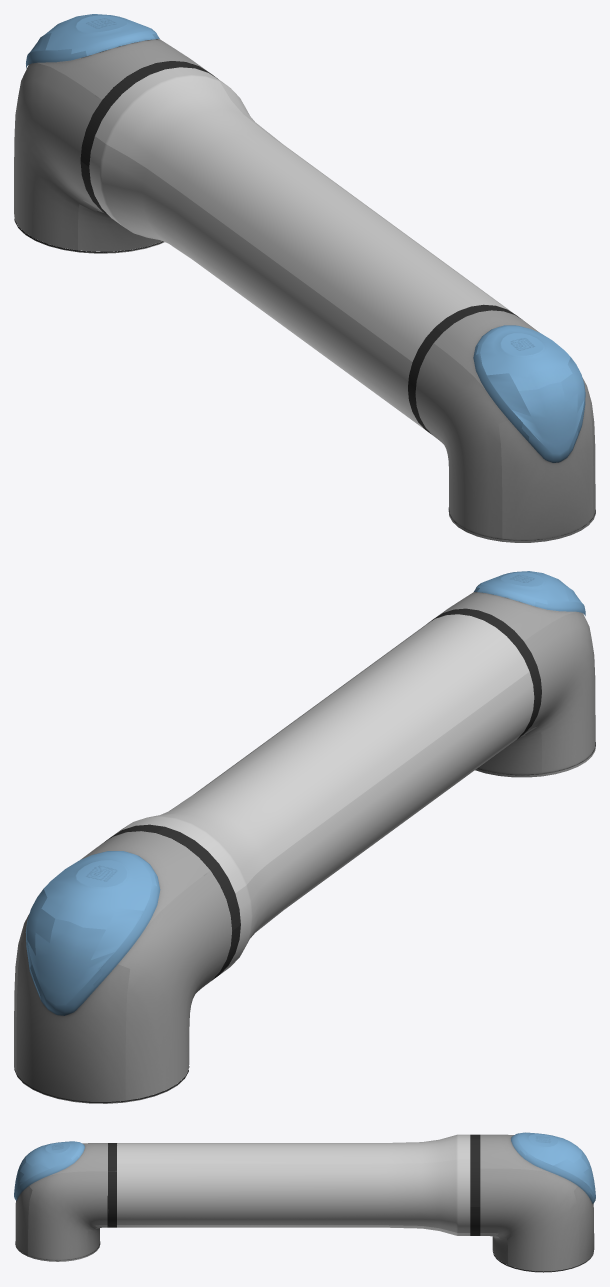
Rendered from upper_arm_link.glb.
3 views of the same model, one above another, from view 1: azimuth 30°, elevation 25°; view 2: azimuth 150°, elevation 25°; view 3: azimuth 270°, elevation 25° (orthographic). The views are drawn at different scales.
Parts seen in each view (by area): view 1: shoulder-mesh_002, shoulder-mesh_003, shoulder-mesh_004, shoulder-mesh_001; view 2: shoulder-mesh_002, shoulder-mesh_003, shoulder-mesh_004, shoulder-mesh_001; view 3: shoulder-mesh_002, shoulder-mesh_003, shoulder-mesh_004, shoulder-mesh_001.
Boxes of the visible parts, x1,y1,x2,y2 form: shoulder-mesh_002: [89, 67, 513, 429]; shoulder-mesh_003: [14, 39, 595, 542]; shoulder-mesh_004: [26, 14, 585, 462]; shoulder-mesh_001: [14, 61, 522, 434]; shoulder-mesh_002: [111, 614, 534, 974]; shoulder-mesh_003: [14, 592, 595, 1103]; shoulder-mesh_004: [25, 571, 585, 1015]; shoulder-mesh_001: [14, 608, 541, 1102]; shoulder-mesh_002: [117, 1134, 470, 1235]; shoulder-mesh_003: [15, 1134, 594, 1272]; shoulder-mesh_004: [14, 1132, 595, 1203]; shoulder-mesh_001: [108, 1134, 593, 1271].
Bounding box in the file's own units: 0.1803 × 0.223 × 1.03.
1 material, 1 textured.
